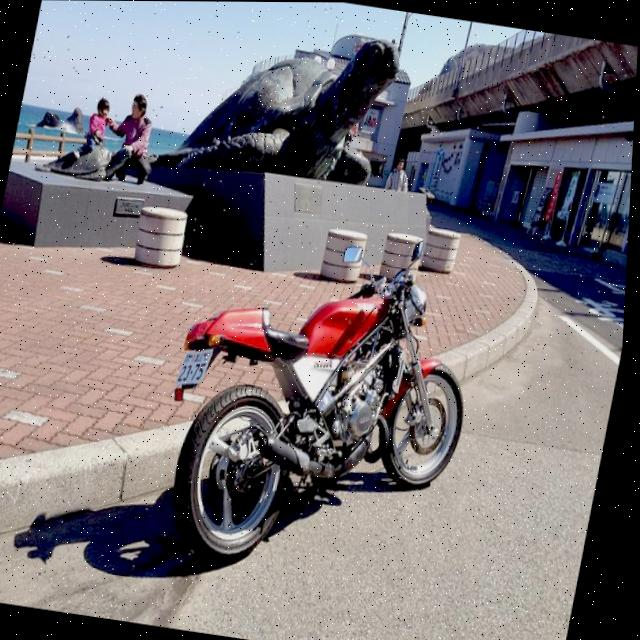motorcycle: (140, 206, 501, 595)
